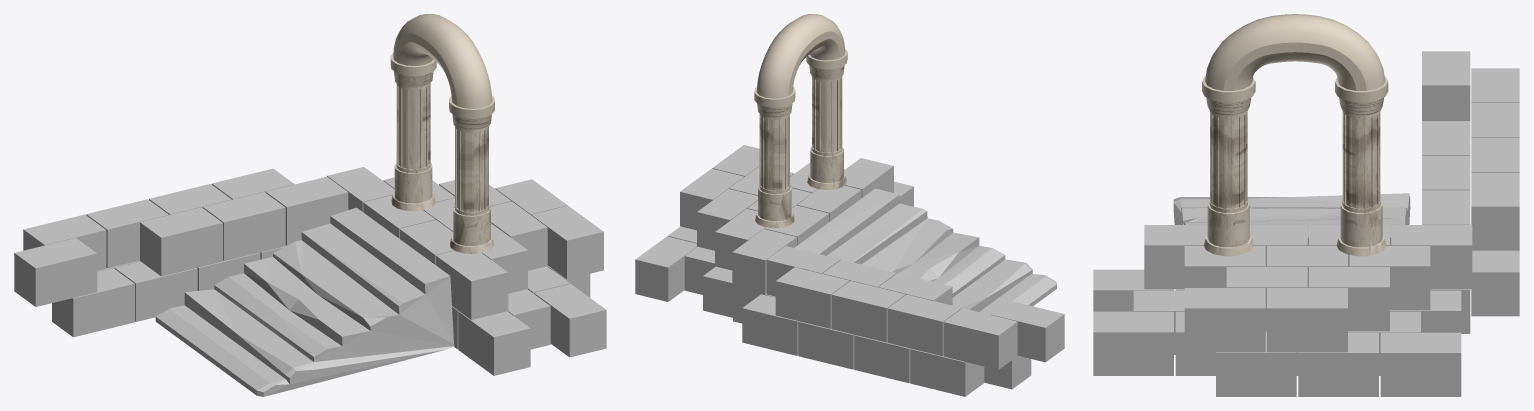
File: ruina_duza_1.obj
3 renders of one model, left to right at view 1: azimuth 30°, elevation 25°; view 2: azimuth 150°, elevation 25°; view 3: azimuth 270°, elevation 25°, orthographic. The views are drawn at different scales.
Visible parts, largest first — view 1: Cube.019; view 2: Cube.019; view 3: Cube.019.
Boxes of the visible parts, x1=… form: Cube.019: x1=14, y1=14, x2=606, y2=396; Cube.019: x1=635, y1=14, x2=1064, y2=396; Cube.019: x1=1093, y1=14, x2=1519, y2=396.
Bounding box in the file's own units: 75.34 × 43.53 × 52.85.
2 materials, 1 textured.
